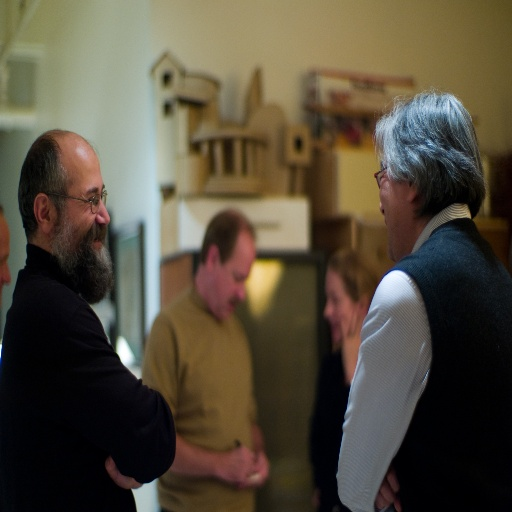hand: (341, 293, 365, 389), (219, 443, 256, 482), (104, 456, 144, 491), (373, 468, 402, 511), (254, 447, 270, 483)
